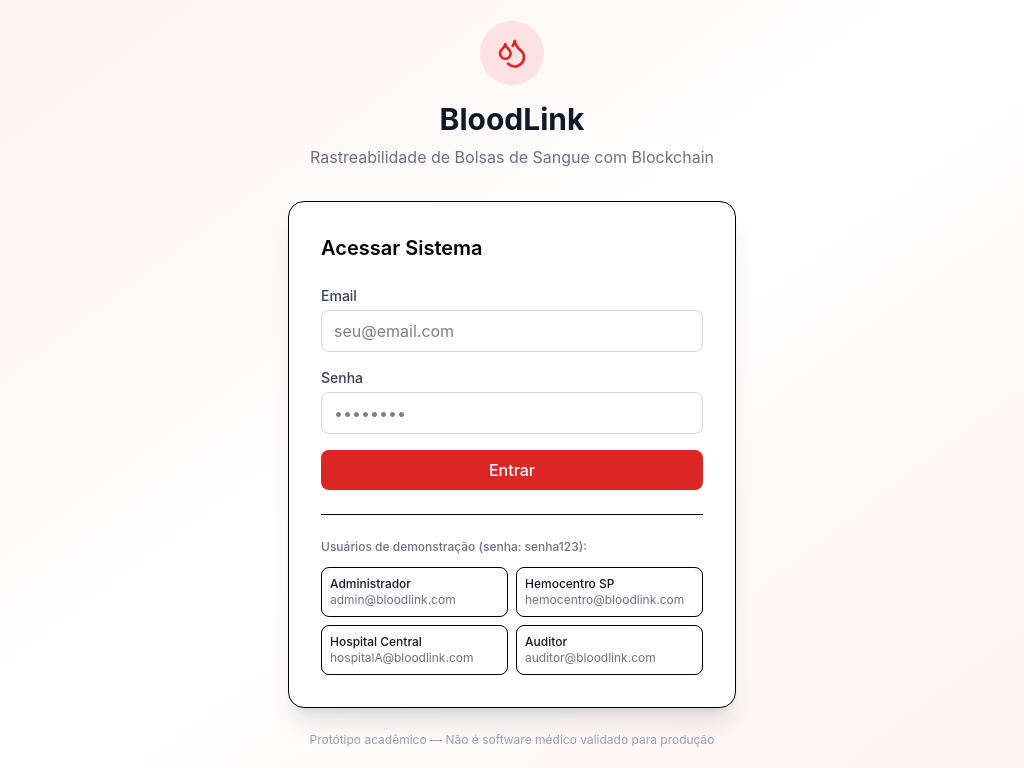
it: Login Page › deve preencher email ao clicar em usuário demo
Click the text "Administrador".
click(370, 583)  # box [330,576,411,590]
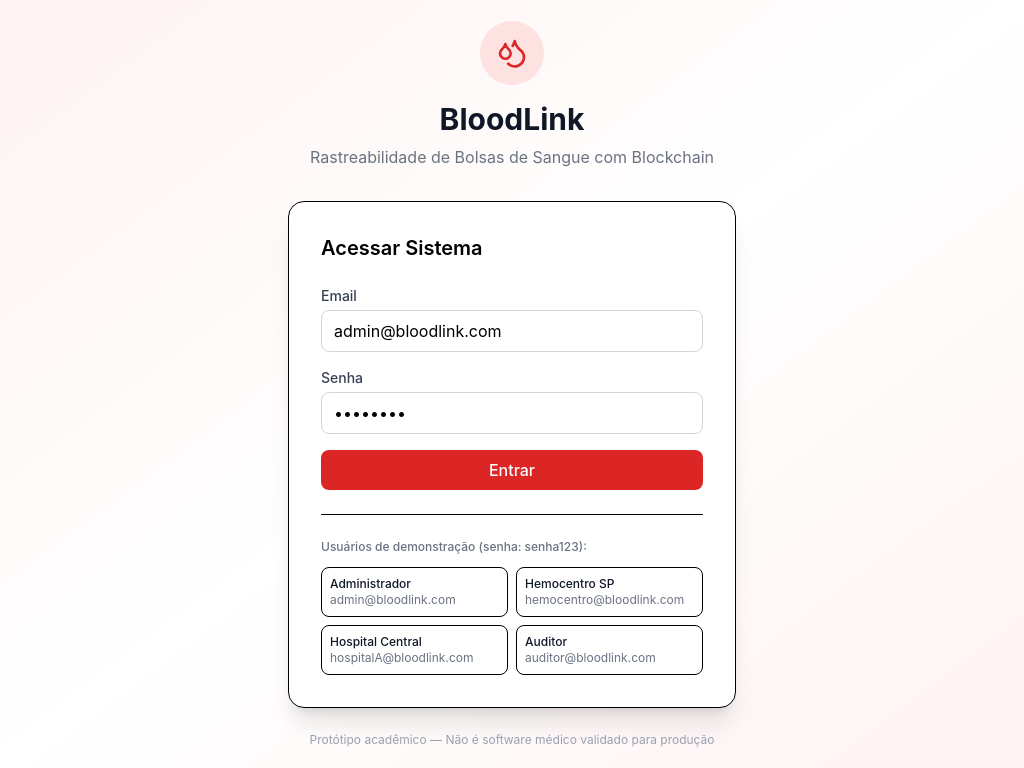
Check: the field with placeholder "seu@email.com" holds "admin@bloodlink.com", box [321,310,703,352]
